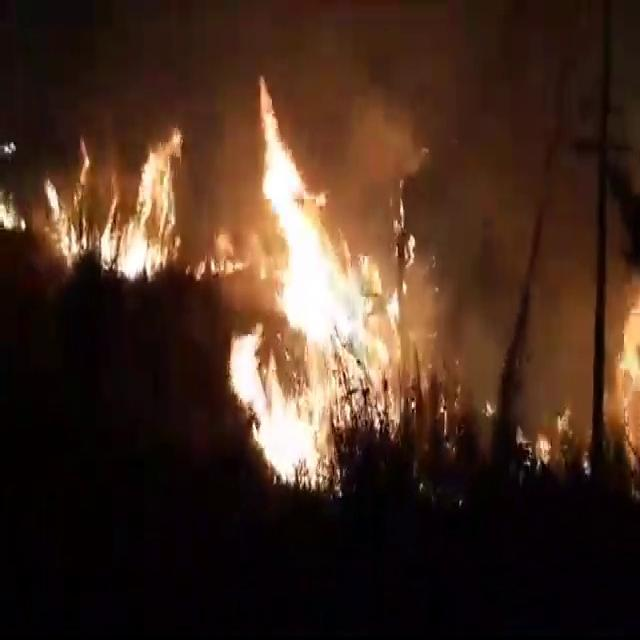Fire: (221, 70, 409, 486), (234, 338, 320, 478), (101, 133, 178, 279), (615, 284, 640, 476), (43, 167, 84, 261), (191, 247, 245, 281), (0, 180, 21, 230)
